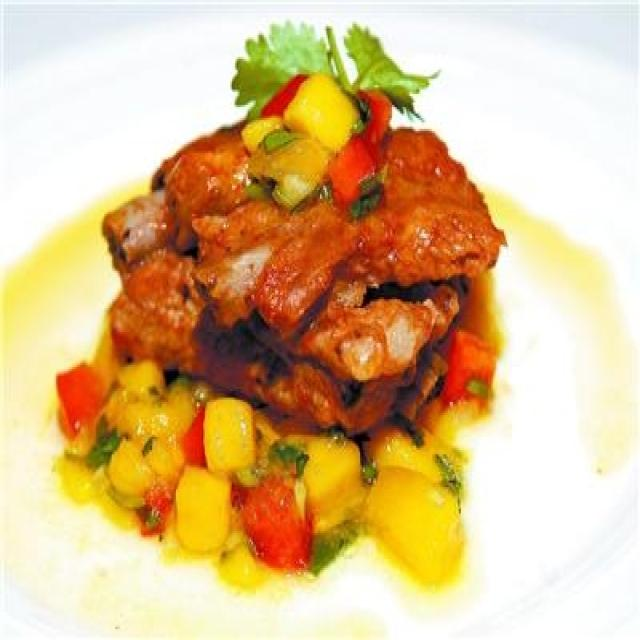熟制海鲜: (13, 30, 621, 620)
